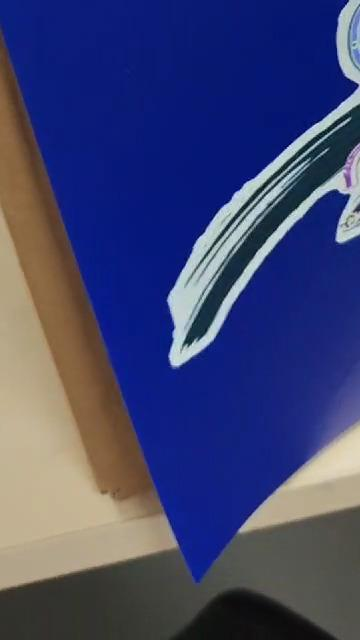B_R1: (179, 0, 360, 315)
